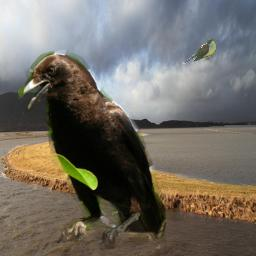Crow: (18, 50, 166, 249)
Cuckoo: (181, 39, 216, 64)
